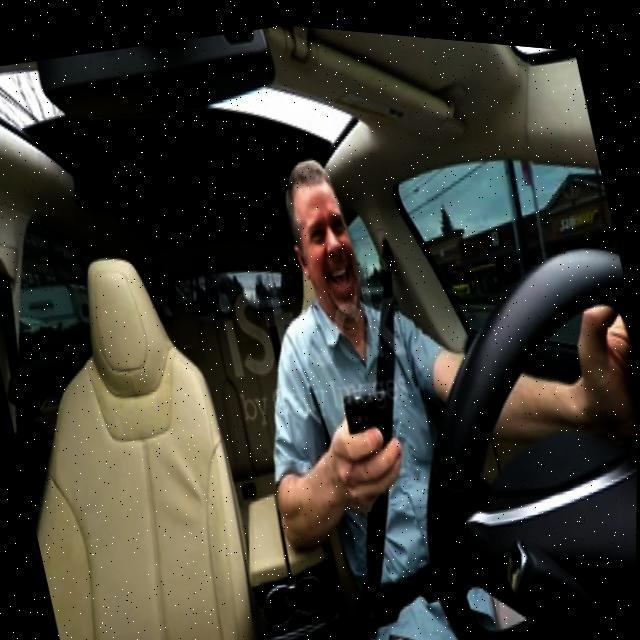PhoneCall: (340, 379, 407, 485)
